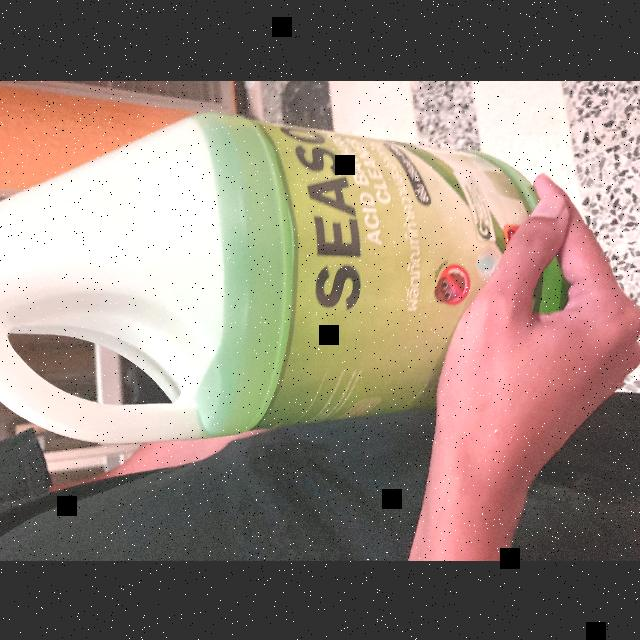chemical_plastic_gallon: (0, 112, 576, 446)
